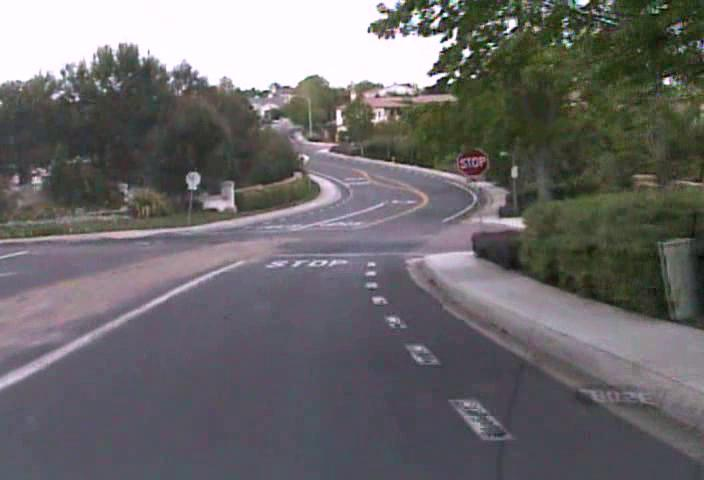stop: (456, 146, 490, 178)
